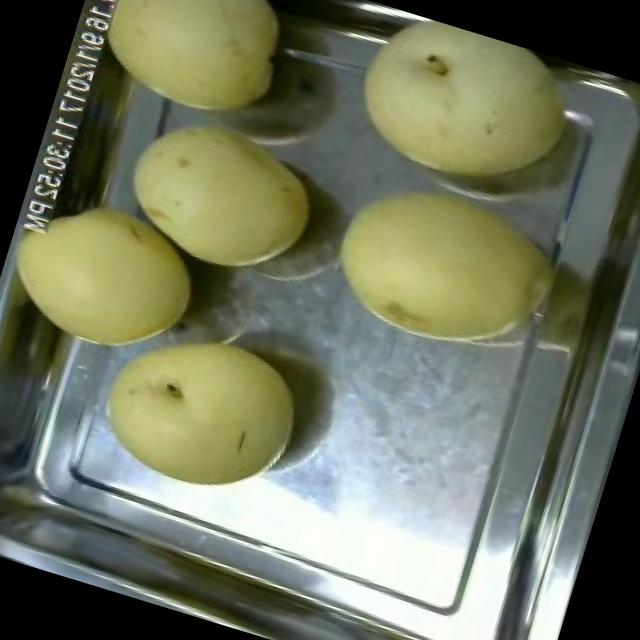Fruit: (306, 144, 570, 380), (322, 0, 592, 222), (76, 298, 322, 519), (93, 87, 339, 301), (0, 166, 220, 379), (65, 0, 312, 145)
